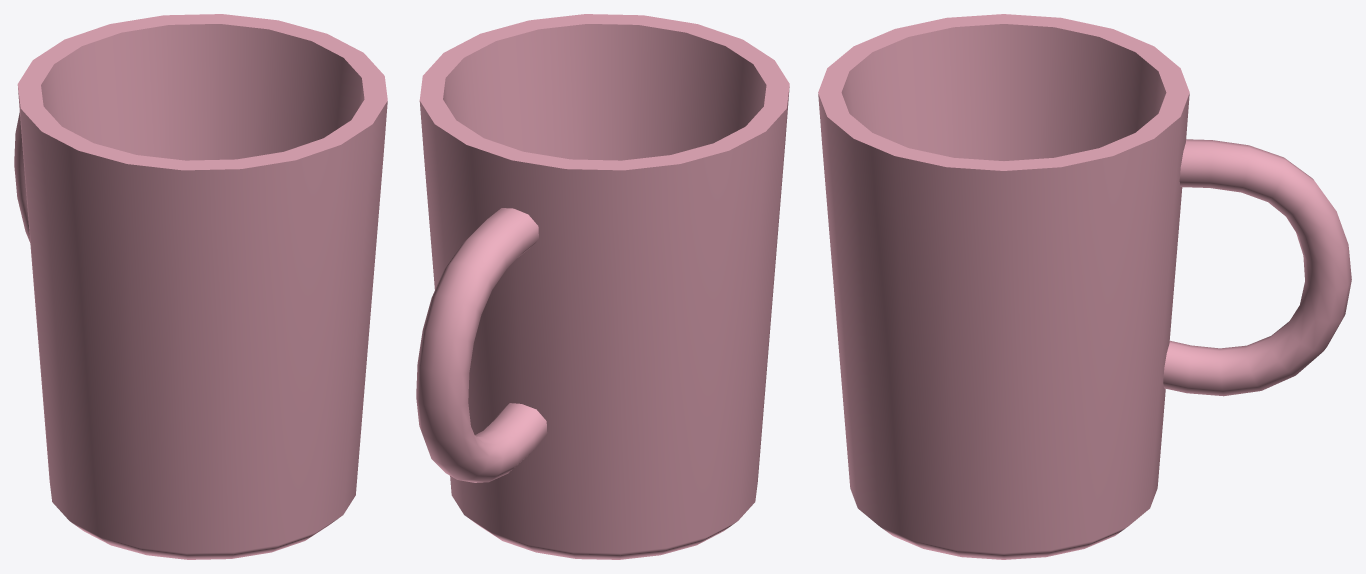
Rendered from Cup.fbx.
The picture shows the model from 3 angles, left to right: view 1: azimuth 30°, elevation 25°; view 2: azimuth 150°, elevation 25°; view 3: azimuth 270°, elevation 25°; orthographic projection.
Visible parts, largest first — view 1: Cup; view 2: Cup; view 3: Cup.
Part boxes in pixels (x1,y1,x2,y2): Cup: [14, 14, 387, 559]; Cup: [416, 14, 789, 559]; Cup: [818, 14, 1351, 559].
Bounding box in the file's own units: 8.42 × 10.23 × 12.09.
